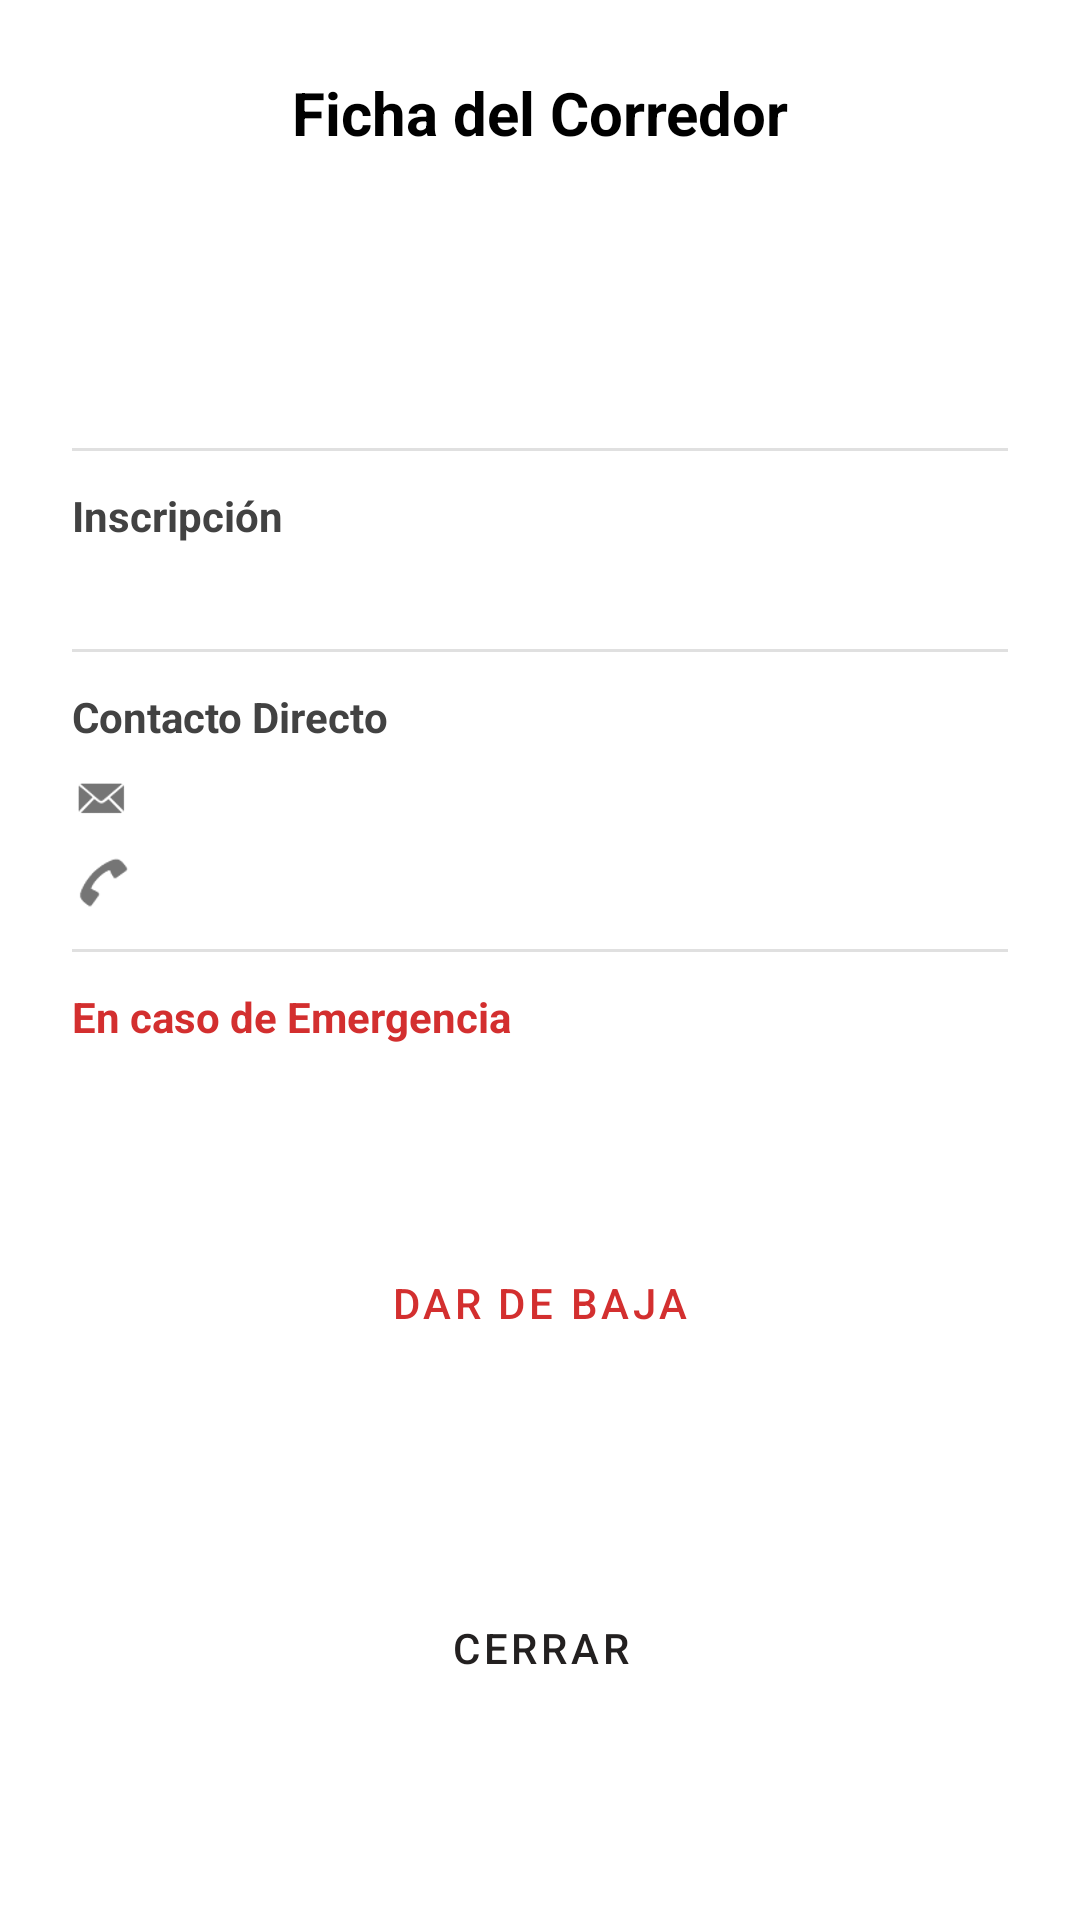

Where to tap for icons on this 1080px x 1920px app screen, as [x,y]:
sym action call: [103,883]
sym action email: [101,798]
